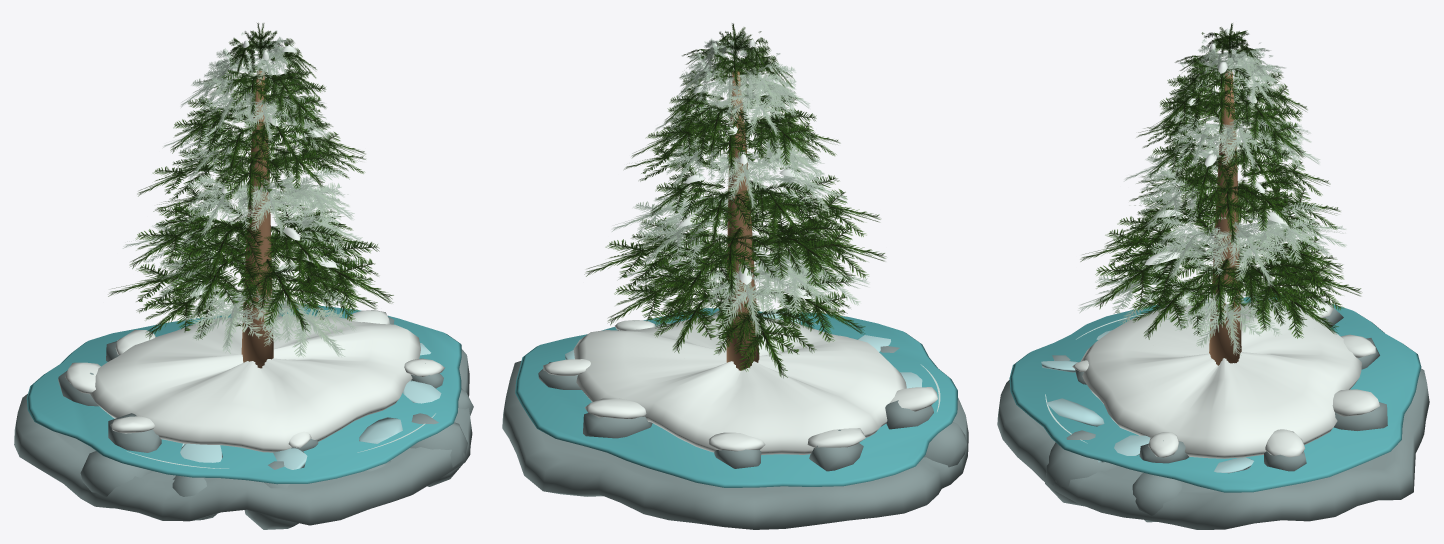
The model's file is snowy-island-v11.glb.
3 renders of one model, left to right at view 1: azimuth 30°, elevation 25°; view 2: azimuth 150°, elevation 25°; view 3: azimuth 270°, elevation 25°, orthographic.
Parts seen in each view (by area): view 1: Snowy | Pine | twig atlas, Snowy | Snow | soft, Snowy | Rock | blue grey, Snowy | Pine | frost atlas, Snowy | Sea | icy turquoise, Snowy | Pine | bark, Snowy | Ice | pale blue; view 2: Snowy | Pine | twig atlas, Snowy | Snow | soft, Snowy | Rock | blue grey, Snowy | Pine | frost atlas, Snowy | Sea | icy turquoise, Snowy | Pine | bark, Snowy | Ice | pale blue; view 3: Snowy | Pine | twig atlas, Snowy | Snow | soft, Snowy | Rock | blue grey, Snowy | Pine | frost atlas, Snowy | Sea | icy turquoise, Snowy | Pine | bark, Snowy | Ice | pale blue.
Part boxes in pixels (bbox=[...]): Snowy | Pine | twig atlas: bbox=[108, 23, 393, 339]; Snowy | Snow | soft: bbox=[65, 40, 444, 452]; Snowy | Rock | blue grey: bbox=[14, 316, 473, 529]; Snowy | Pine | frost atlas: bbox=[123, 30, 371, 357]; Snowy | Sea | icy turquoise: bbox=[26, 304, 461, 484]; Snowy | Pine | bark: bbox=[241, 70, 273, 368]; Snowy | Ice | pale blue: bbox=[180, 343, 441, 469]; Snowy | Pine | twig atlas: bbox=[584, 23, 886, 377]; Snowy | Snow | soft: bbox=[543, 39, 937, 454]; Snowy | Rock | blue grey: bbox=[502, 310, 968, 529]; Snowy | Pine | frost atlas: bbox=[612, 33, 869, 336]; Snowy | Sea | icy turquoise: bbox=[515, 308, 957, 487]; Snowy | Pine | bark: bbox=[726, 71, 759, 370]; Snowy | Ice | pale blue: bbox=[565, 308, 922, 388]; Snowy | Pine | twig atlas: bbox=[1080, 23, 1361, 339]; Snowy | Snow | soft: bbox=[1072, 28, 1379, 458]; Snowy | Rock | blue grey: bbox=[997, 299, 1429, 529]; Snowy | Pine | frost atlas: bbox=[1078, 39, 1346, 355]; Snowy | Sea | icy turquoise: bbox=[1009, 295, 1421, 492]; Snowy | Pine | bark: bbox=[1209, 71, 1241, 365]; Snowy | Ice | pale blue: bbox=[1041, 330, 1253, 473].
Size of the model in its own units: 1.64 by 1.6 by 1.44.
Materials: 8 (2 with a texture image).
